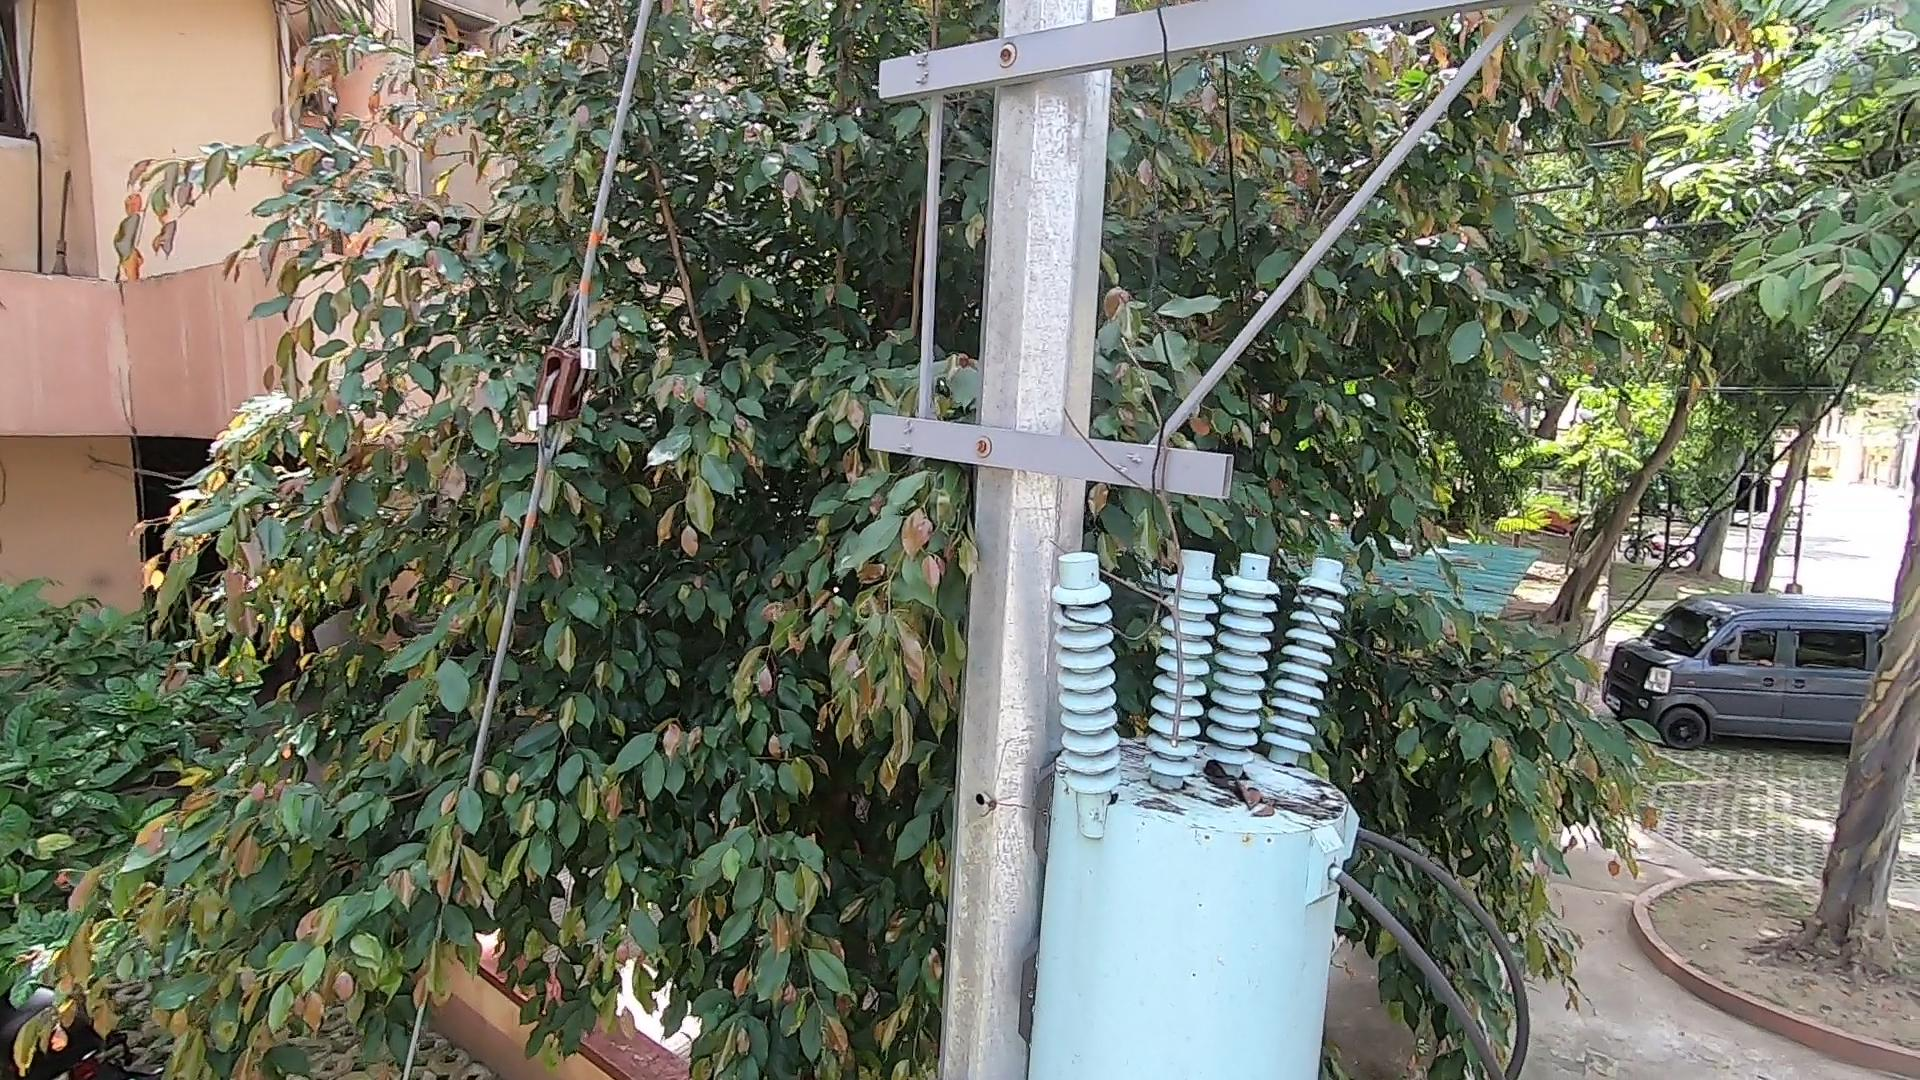leaf: (1192, 738, 1276, 814)
tree branch: (1044, 318, 1218, 752)
